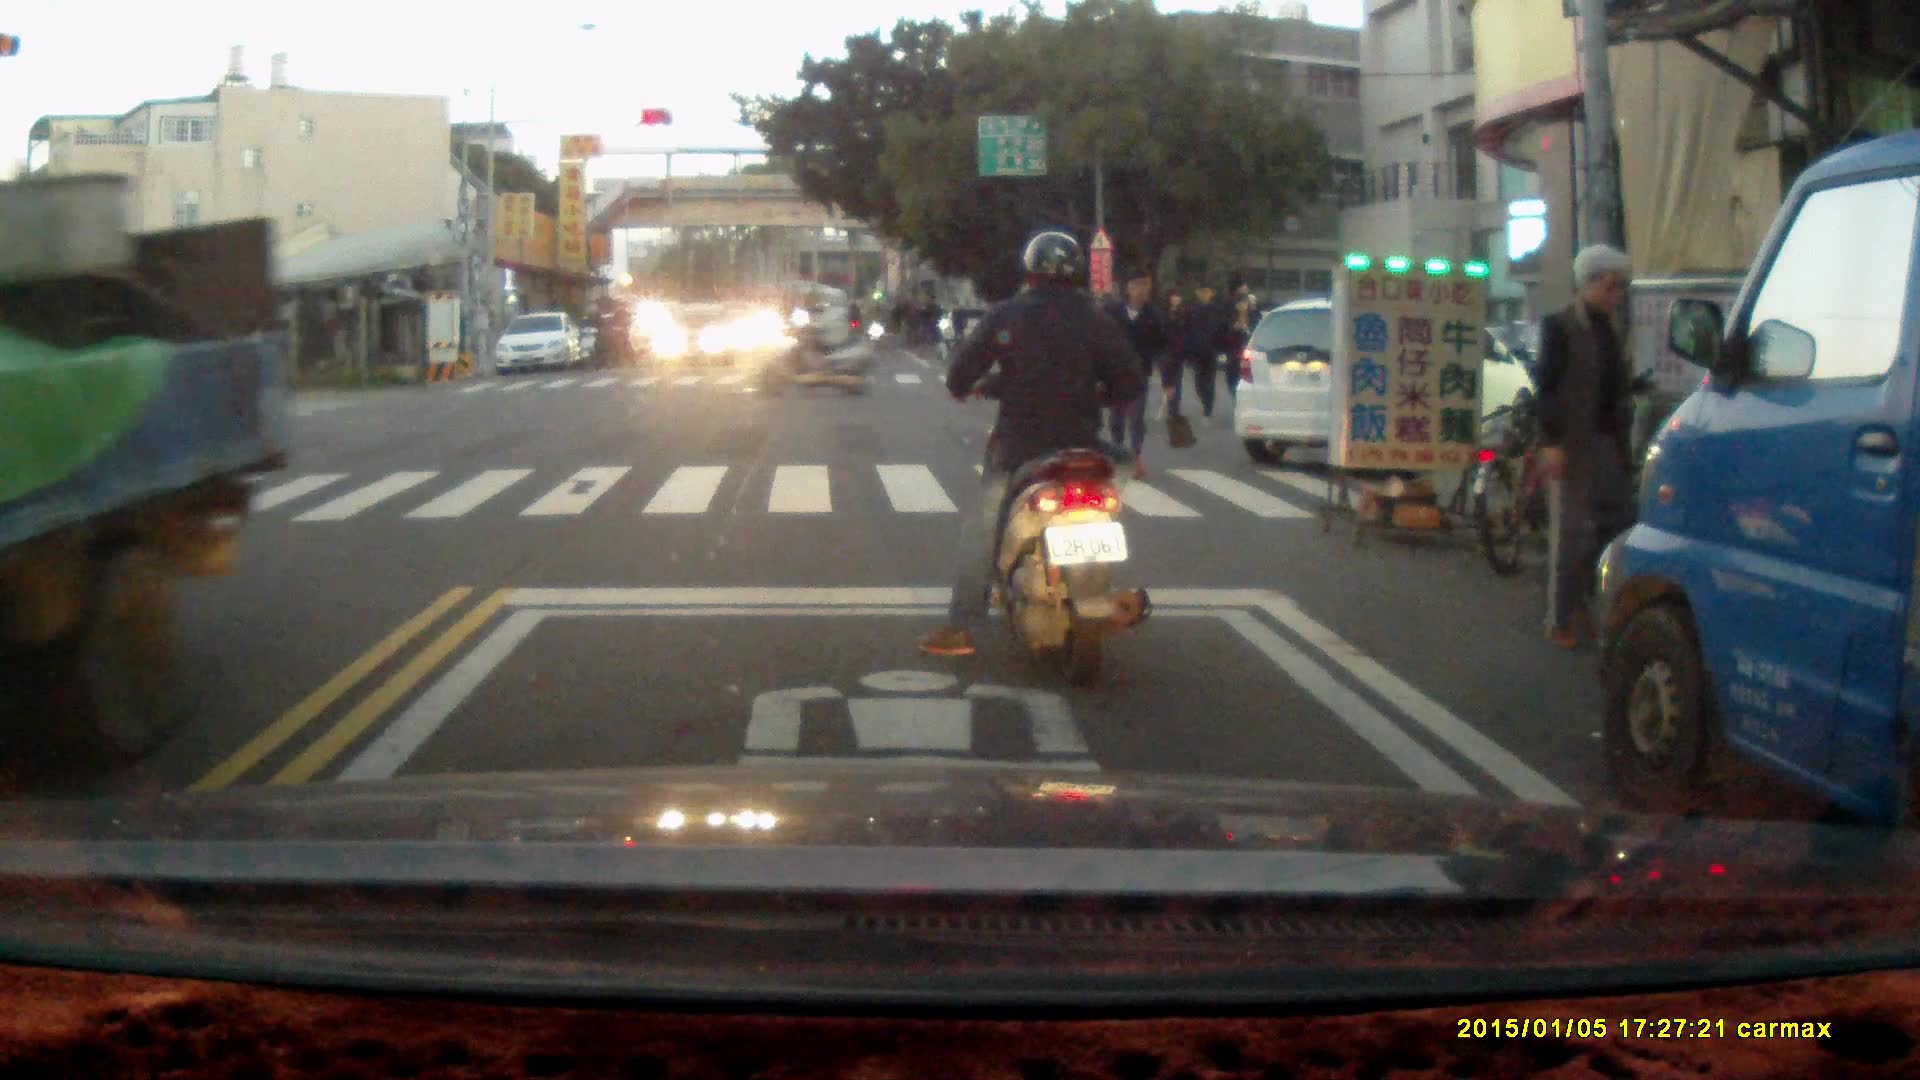pedestrian: (1531, 242, 1671, 648), (1093, 261, 1177, 480), (1152, 282, 1193, 426), (1182, 278, 1223, 418), (1225, 291, 1263, 416)
rider: (917, 228, 1151, 693), (759, 282, 874, 402), (577, 301, 612, 372), (601, 296, 636, 366), (860, 294, 889, 351)
vehicle: (1596, 120, 1920, 901), (1, 166, 282, 758), (1231, 303, 1533, 462), (493, 311, 584, 378), (657, 299, 745, 368)
